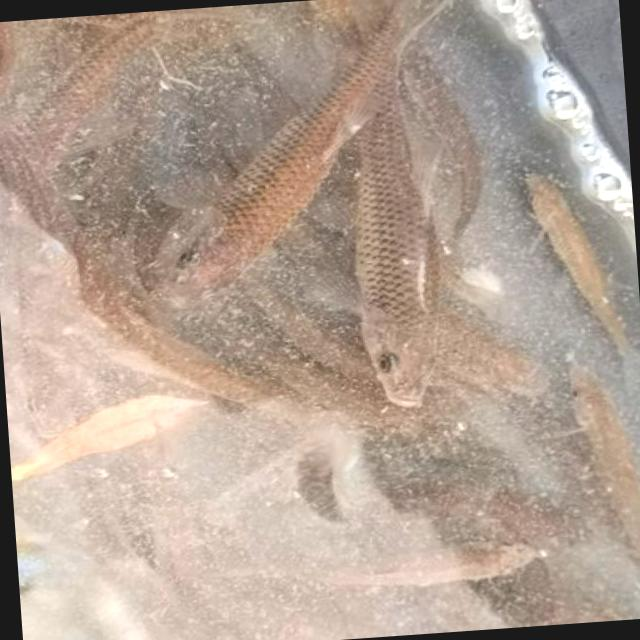Cakil Baligi: (329, 0, 473, 415)
